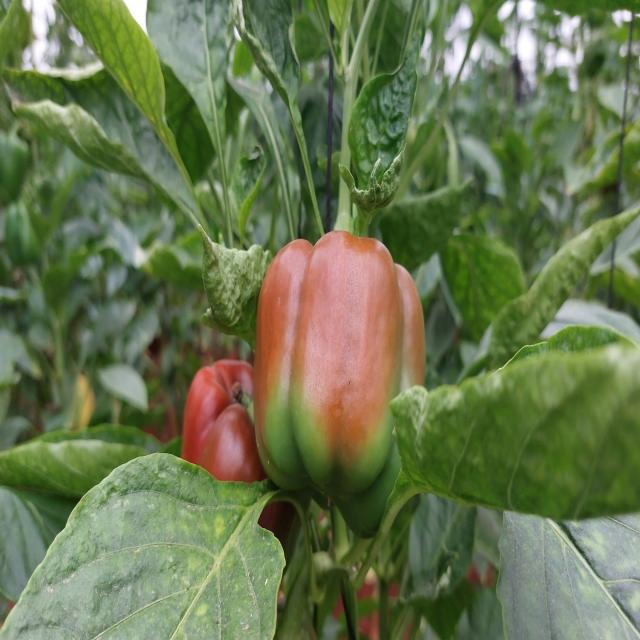BrownishRed--Can-be-Harvested: (255, 228, 433, 540), (179, 349, 274, 580)
